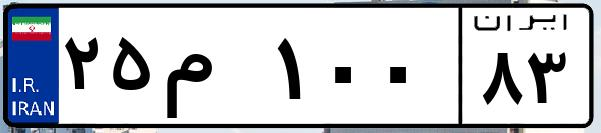0: (385, 28, 445, 110), (330, 28, 385, 110)
1: (270, 28, 330, 110)
2: (57, 26, 110, 100)
3: (525, 38, 570, 115)
5: (110, 28, 158, 98)
8: (475, 38, 525, 113)
م: (158, 20, 270, 120)
